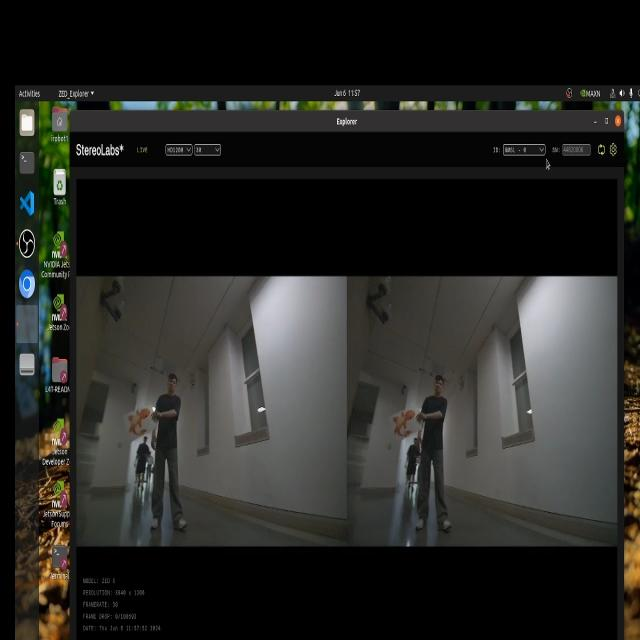red: (124, 399, 154, 430), (394, 402, 414, 442)
